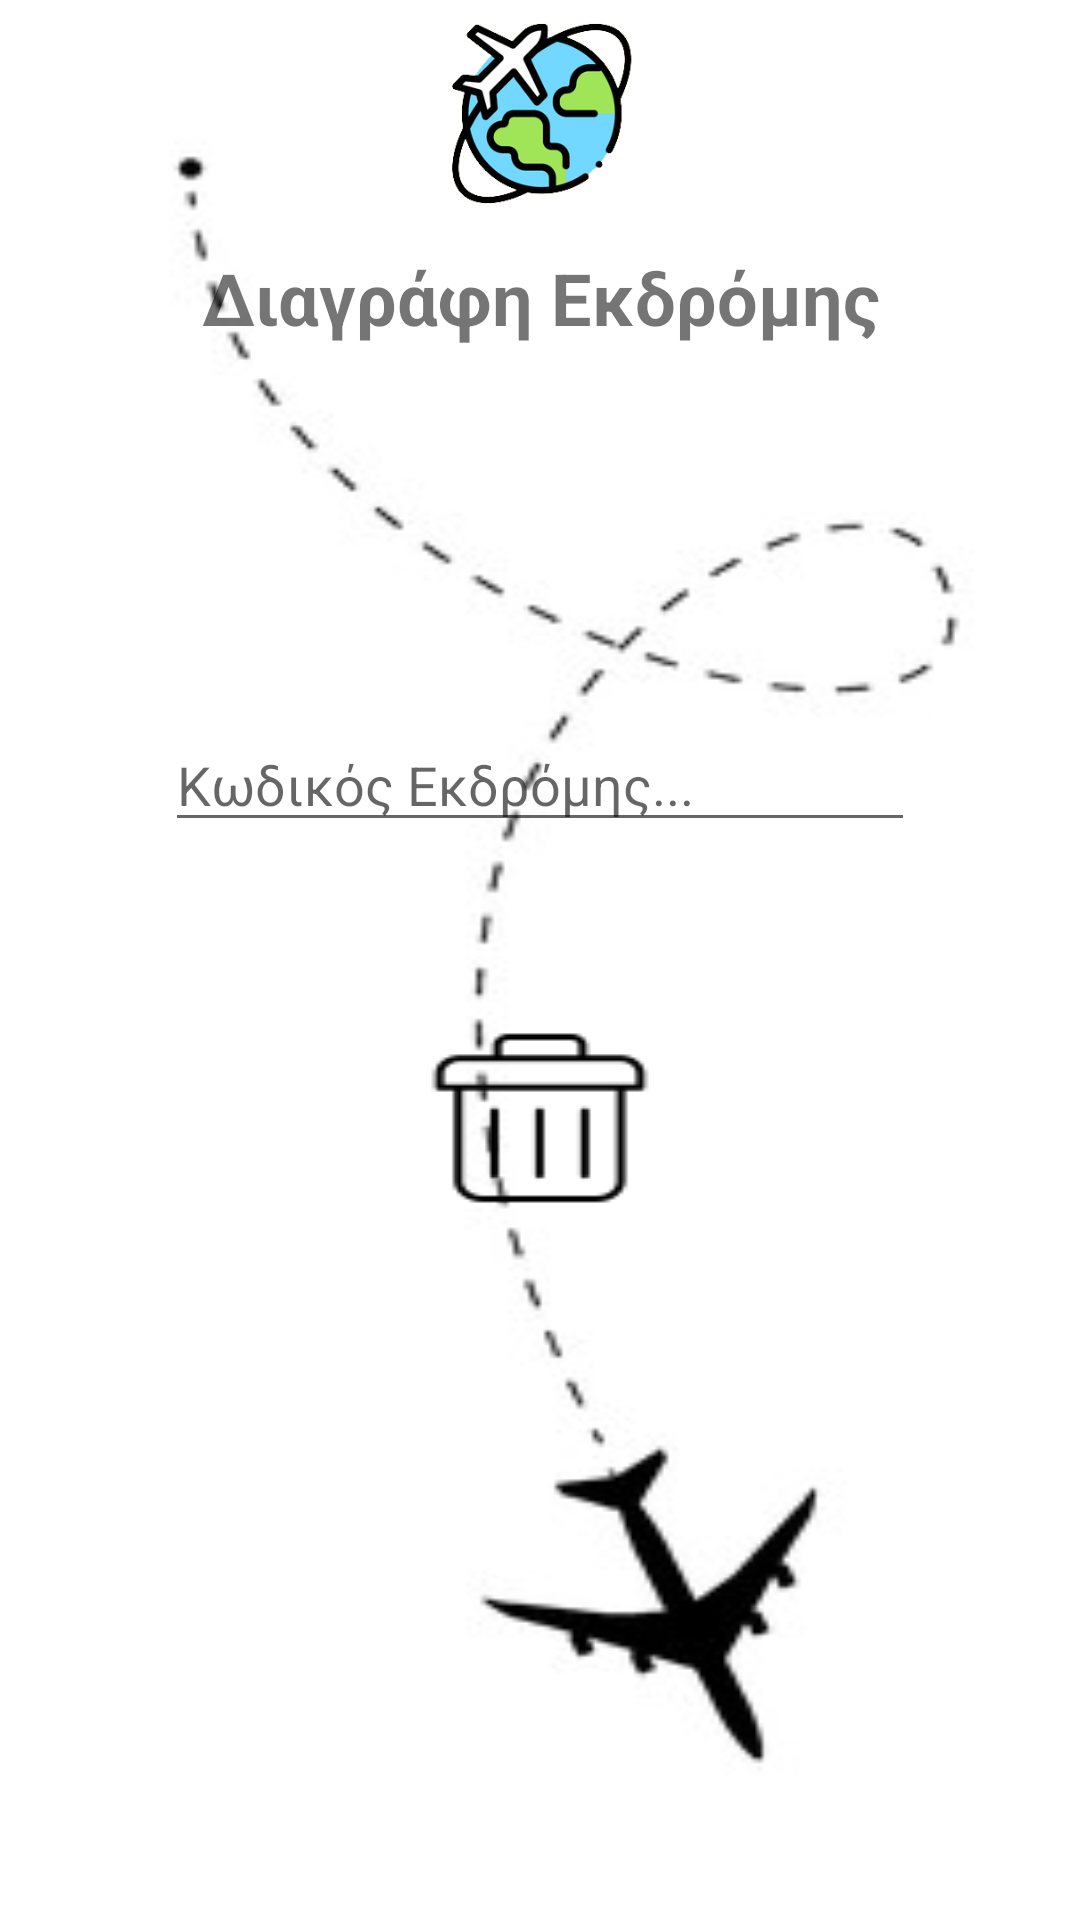

Where to tap for icons on this 1080 × 1920 app screen, as point (x, y):
delete: point (540, 1115)
